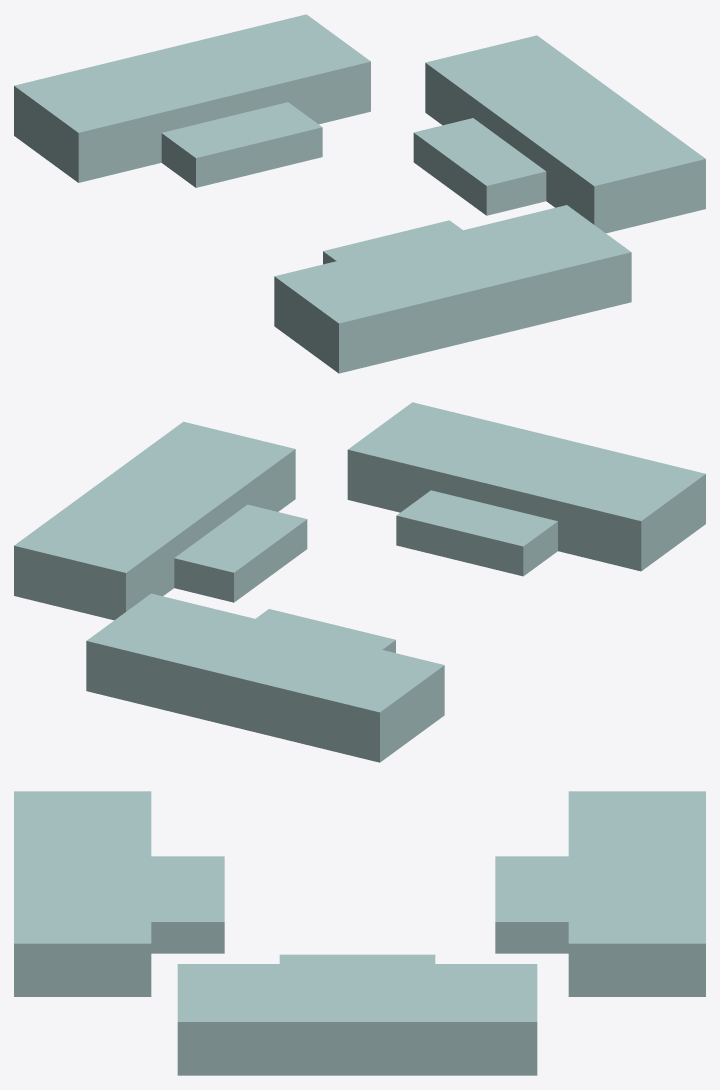
File: tutorial_portal_platforms.fbx
The picture shows the model from 3 angles, top to bottom: view 1: azimuth 30°, elevation 25°; view 2: azimuth 150°, elevation 25°; view 3: azimuth 270°, elevation 25°; orthographic projection. The views are drawn at different scales.
Visible parts, largest first — view 1: portal_platforms, portal_platforms1, portal_platforms2; view 2: portal_platforms1, portal_platforms, portal_platforms2; view 3: portal_platforms2, portal_platforms1, portal_platforms.
Part boxes in pixels (x1,y1,x2,y2): portal_platforms: [14, 14, 370, 187]; portal_platforms1: [274, 205, 631, 373]; portal_platforms2: [413, 35, 705, 233]; portal_platforms1: [347, 402, 705, 576]; portal_platforms: [86, 593, 444, 762]; portal_platforms2: [14, 421, 307, 620]; portal_platforms2: [177, 954, 537, 1075]; portal_platforms1: [14, 791, 224, 996]; portal_platforms: [495, 791, 705, 996].
Size of the model in its own units: 12.34 by 1.33 by 15.64.
